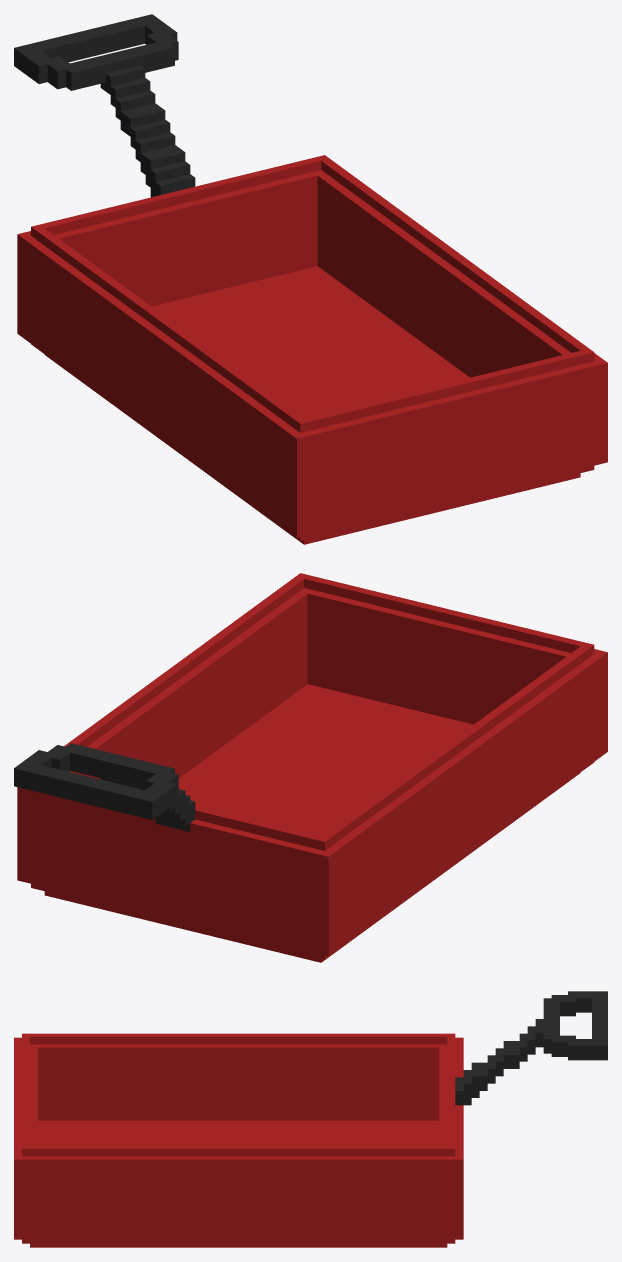
The model's file is toy wagon.obj.
3 views of the same model, one above another, from view 1: azimuth 30°, elevation 25°; view 2: azimuth 150°, elevation 25°; view 3: azimuth 270°, elevation 25° (orthographic). The views are drawn at different scales.
Bounding box in the file's own units: 3.6 × 2.4 × 7.4.
Materials: 1 (1 with a texture image).
